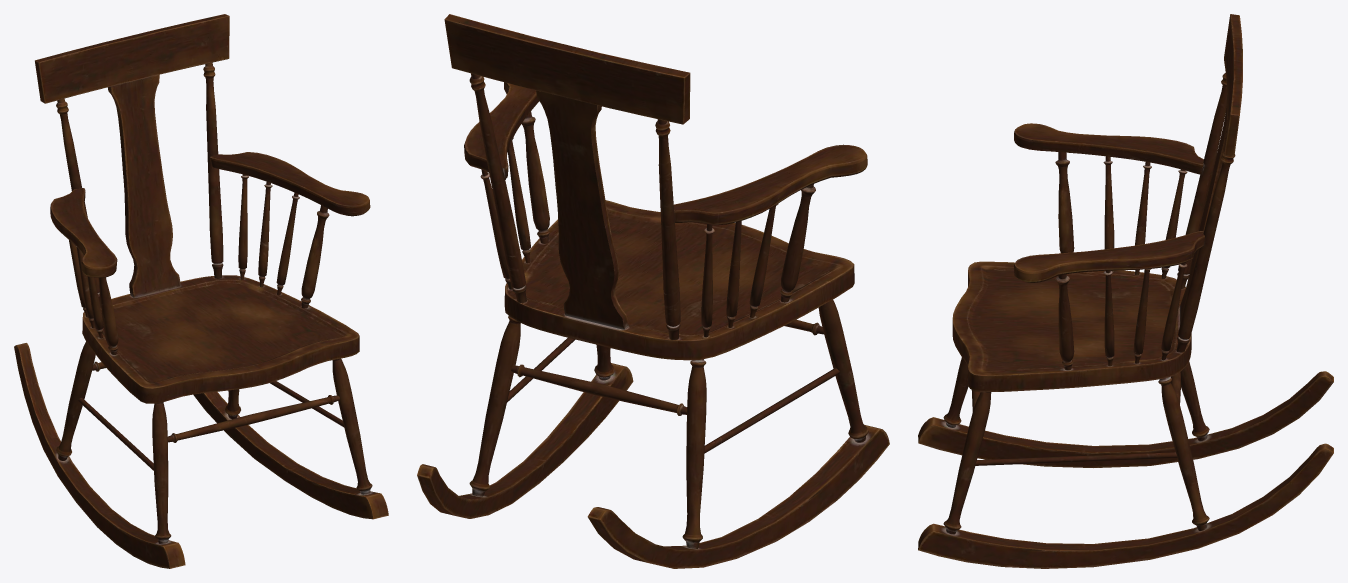
Rendered from rocking_chair.glb.
3 renders of one model, left to right at view 1: azimuth 30°, elevation 25°; view 2: azimuth 150°, elevation 25°; view 3: azimuth 270°, elevation 25°, orthographic. The views are drawn at different scales.
Visible parts, largest first — view 1: Rockingchair_01; view 2: Rockingchair_01; view 3: Rockingchair_01.
Part boxes in pixels (x1,y1,x2,y2): Rockingchair_01: (14,14,388,568); Rockingchair_01: (417,14,889,568); Rockingchair_01: (918,14,1333,568).
Size of the model in its own units: 0.7473 by 1.05 by 0.8799.
1 material, 1 textured.
